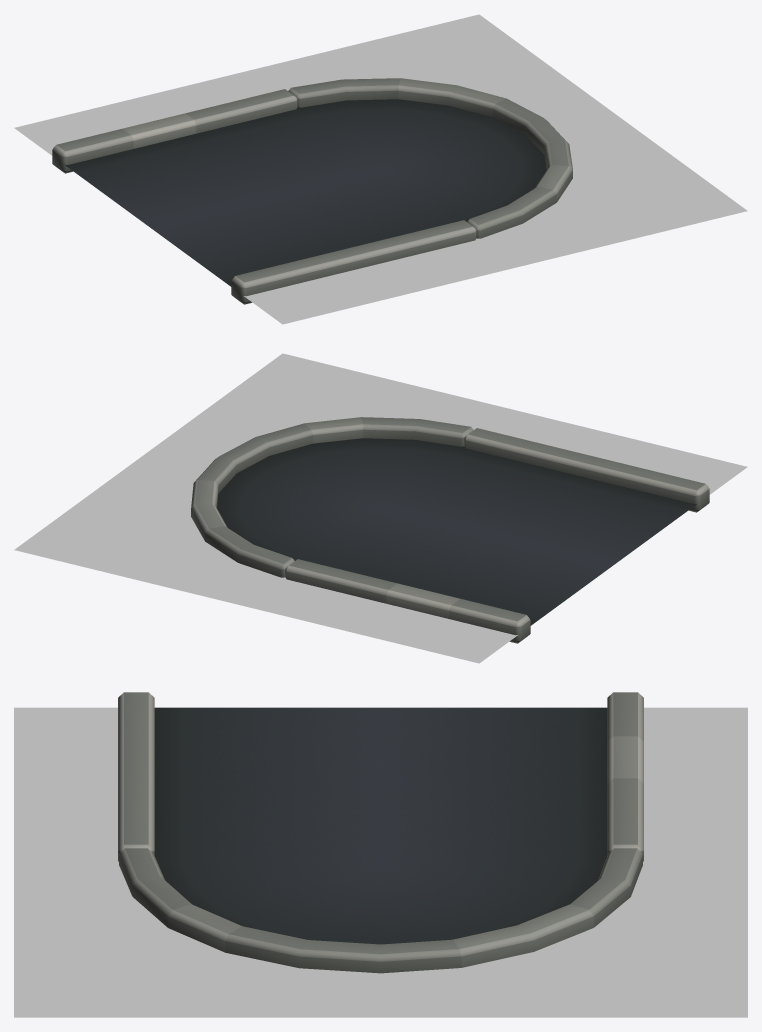
Rendered from lane_section_dead_end.fbx.
The picture shows the model from 3 angles, top to bottom: view 1: azimuth 30°, elevation 25°; view 2: azimuth 150°, elevation 25°; view 3: azimuth 270°, elevation 25°; orthographic projection. The views are drawn at different scales.
Visible parts, largest first — view 1: lane_section_dead_end, lane_section_dead_end_sidewalk; view 2: lane_section_dead_end, lane_section_dead_end_sidewalk; view 3: lane_section_dead_end, lane_section_dead_end_sidewalk.
Boxes of the visible parts, box(x1,y1,x2,y2) form: lane_section_dead_end: box(52, 78, 572, 304); lane_section_dead_end_sidewalk: box(14, 14, 747, 324); lane_section_dead_end: box(191, 417, 709, 643); lane_section_dead_end_sidewalk: box(14, 353, 747, 663); lane_section_dead_end: box(118, 692, 643, 973); lane_section_dead_end_sidewalk: box(14, 707, 747, 1017).
Size of the model in its own units: 1205 by 55 by 1200.
